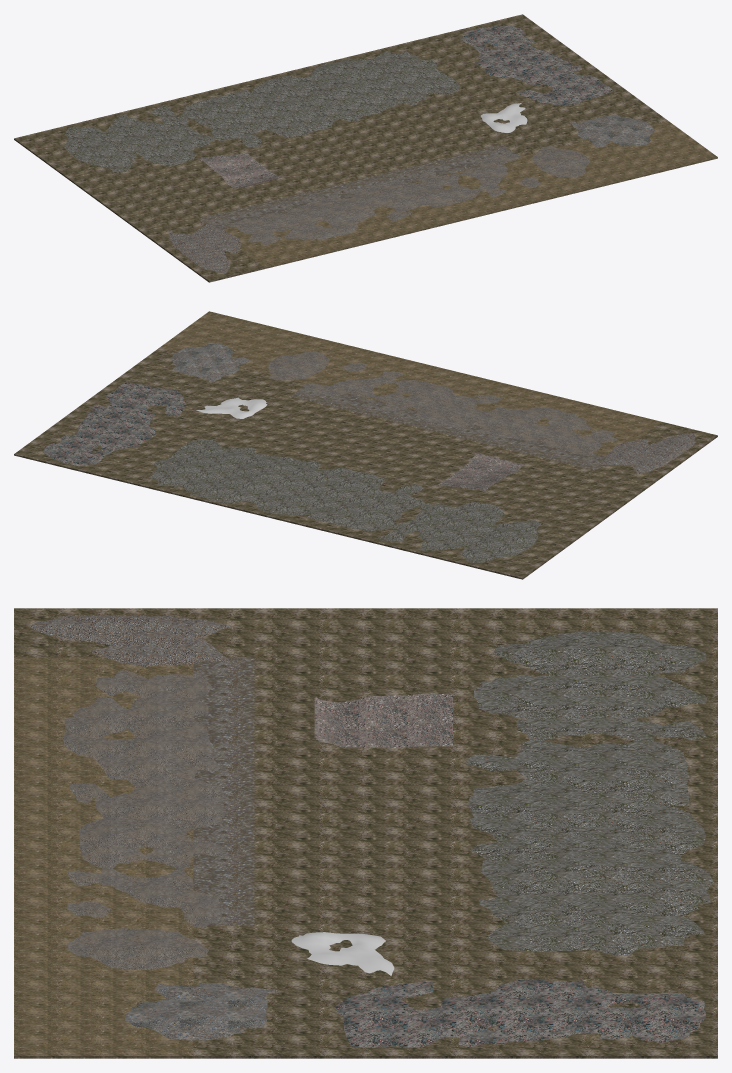
The model's file is Ground_Gravel.FBX.
The picture shows the model from 3 angles, top to bottom: view 1: azimuth 30°, elevation 25°; view 2: azimuth 150°, elevation 25°; view 3: azimuth 270°, elevation 25°; orthographic projection. The views are drawn at different scales.
Parts seen in each view (by area): view 1: Ground_Gravel02b, Ground_Gravel0f, Ground_Gravel01, Ground_Gravel02, Ground_Gravel0a, Ground_Gravel02a, Ground_Gravel0d, Ground_Gravel03, Ground_Gravel0c, Ground_Gravel0b, Ground_Gravel0g, Ground_Gravel0e; view 2: Ground_Gravel02b, Ground_Gravel0f, Ground_Gravel01, Ground_Gravel02, Ground_Gravel0a, Ground_Gravel02a, Ground_Gravel0d, Ground_Gravel03, Ground_Gravel0c, Ground_Gravel0b, Ground_Gravel0g, Ground_Gravel0e; view 3: Ground_Gravel02b, Ground_Gravel0f, Ground_Gravel01, Ground_Gravel02, Ground_Gravel0a, Ground_Gravel02a, Ground_Gravel0d, Ground_Gravel03, Ground_Gravel0c, Ground_Gravel0g, Ground_Gravel0b, Ground_Gravel0e.
Boxes of the visible parts, x1,y1,x2,y2 form: Ground_Gravel02b: (70,50,502,218); Ground_Gravel0f: (64,50,460,172); Ground_Gravel01: (223,121,717,268); Ground_Gravel02: (375,14,667,156); Ground_Gravel0a: (234,146,590,244); Ground_Gravel02a: (14,125,264,282); Ground_Gravel0d: (461,25,613,105); Ground_Gravel03: (199,144,515,229); Ground_Gravel0c: (168,222,241,273); Ground_Gravel0b: (570,114,654,147); Ground_Gravel0g: (199,152,283,188); Ground_Gravel0e: (480,103,527,132); Ground_Gravel02b: (162,396,595,565); Ground_Gravel0f: (148,440,541,563); Ground_Gravel01: (160,311,661,456); Ground_Gravel02: (14,347,305,491); Ground_Gravel0a: (268,351,617,454); Ground_Gravel02a: (467,422,717,579); Ground_Gravel0d: (43,382,186,466); Ground_Gravel03: (291,386,605,470); Ground_Gravel0c: (597,433,695,474); Ground_Gravel0b: (172,343,250,382); Ground_Gravel0g: (438,452,522,490); Ground_Gravel0e: (196,397,267,418); Ground_Gravel02b: (254,657,717,925); Ground_Gravel0f: (466,631,713,955); Ground_Gravel01: (14,657,193,1058); Ground_Gravel02: (193,925,717,1058); Ground_Gravel0a: (62,670,227,969); Ground_Gravel02a: (14,608,717,657); Ground_Gravel0d: (334,979,706,1047); Ground_Gravel03: (193,657,254,925); Ground_Gravel0c: (29,615,231,666); Ground_Gravel0g: (314,693,452,747); Ground_Gravel0b: (125,983,274,1040); Ground_Gravel0e: (291,932,394,975).
Bounding box in the file's own units: 6908 × 147 × 4591.
